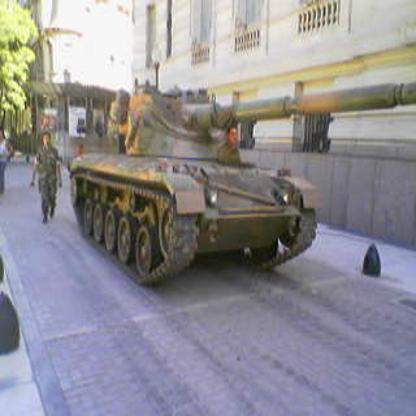Tank: (59, 81, 416, 288)
